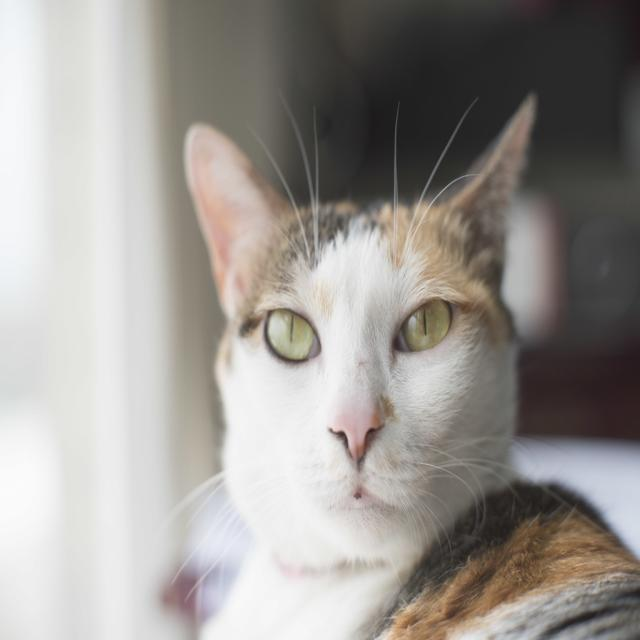Cat: (154, 96, 638, 638)
